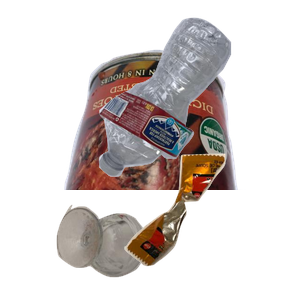glass: (54, 202, 193, 300)
metal: (62, 47, 300, 227)
plastic: (96, 15, 300, 184)
trash: (122, 151, 300, 300)
